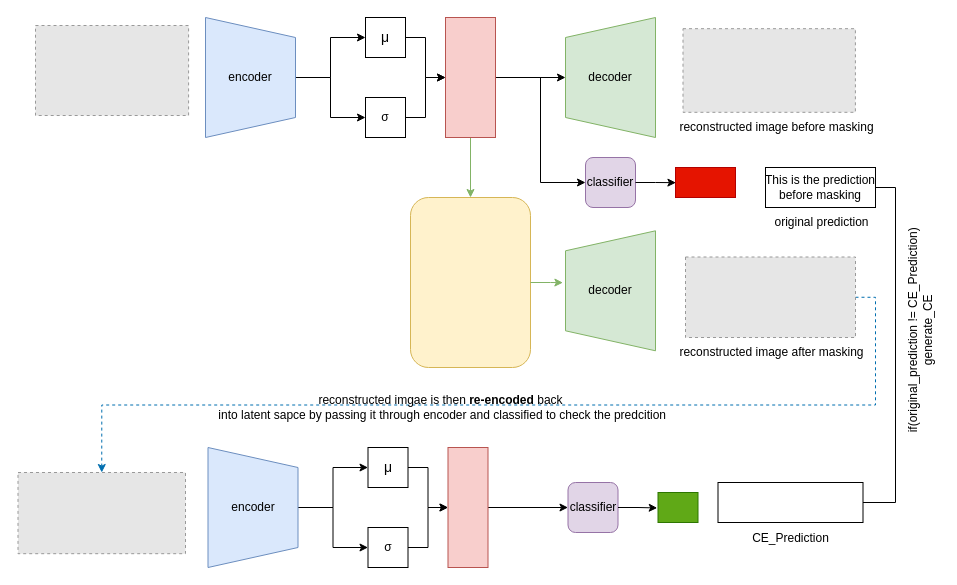
This 957x585 diagram has some shape labels left out. Grey dashed boxes stand in for pictures. The box of each missing label's shape, as (x1, y1, x2, y2) in pixels:
GO: (657, 492, 698, 522)
latent space: (447, 446, 488, 568)
latent space of 128 features: (444, 16, 496, 138)
Masking in latent space: (410, 196, 530, 368)
STOP: (674, 166, 736, 198)
This is the prediction after masking: (717, 482, 863, 522)
